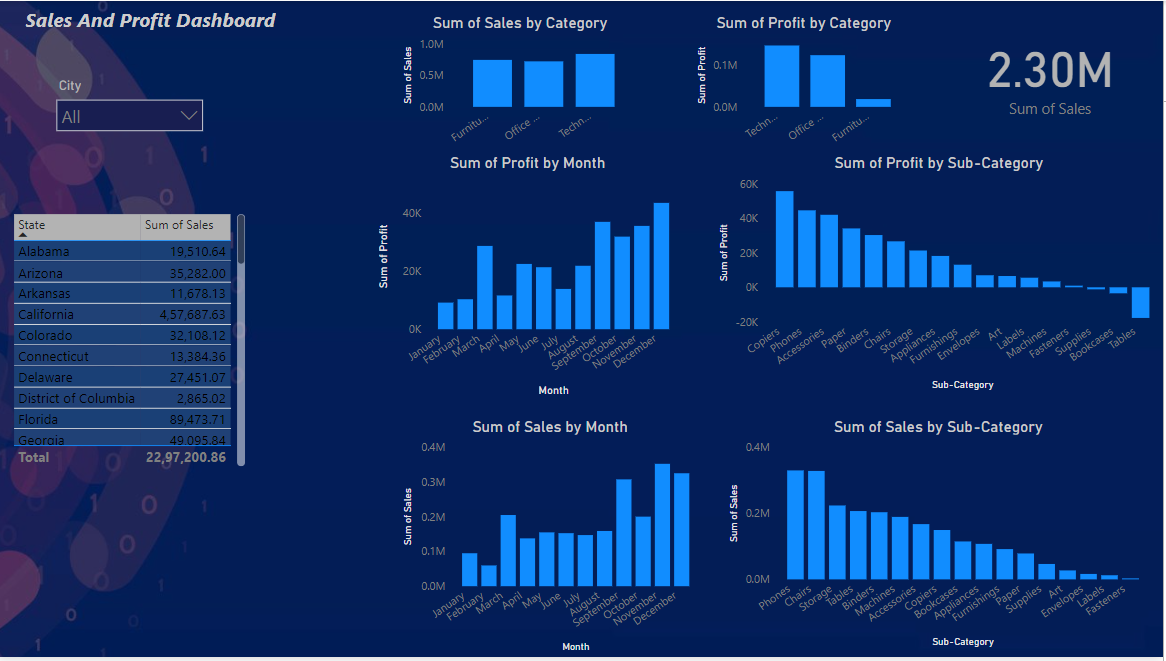

What the dashboard file says about the page in this screenshot:
{"tool":"powerbi","page":{"name":"Page 1","canvas":[1280,720],"ordinal":0},"visuals":[{"type":"columnChart","fields":{"Y":["Sum(Sample Superstore.Sales)"],"Category":["Sample Superstore.Date of Order.Variation.Date Hierarchy.Month"]},"box":[440.5,456.9,333.4,263.5],"z":0},{"type":"columnChart","fields":{"Y":["Sum(Sample Superstore.Sales)"],"Category":["Sample Superstore.Category"]},"box":[440.5,13.7,267.6,153.7],"z":1000},{"type":"columnChart","fields":{"Y":["Sum(Sample Superstore.Sales)"],"Category":["Sample Superstore.Sub-Category"]},"box":[798.6,456.9,469.3,258],"z":2000},{"type":"columnChart","fields":{"Category":["Sample Superstore.Date of Order.Variation.Date Hierarchy.Month"],"Y":["Sum(Sample Superstore.Profit)"]},"box":[413,167.4,338.9,271.7],"z":3000},{"type":"columnChart","fields":{"Category":["Sample Superstore.Category"],"Y":["Sum(Sample Superstore.Profit)"]},"box":[763,13.7,245.6,153.7],"z":4000},{"type":"columnChart","fields":{"Category":["Sample Superstore.Sub-Category"],"Y":["Sum(Sample Superstore.Profit)"]},"box":[787.7,167.4,492.6,264.8],"z":5000},{"type":"slicer","fields":{"Values":["Sample Superstore.City"]},"box":[54.9,79.6,181.1,70],"z":6000},{"type":"textbox","box":[26.1,0,293.7,43.9],"z":7000},{"type":"tableEx","fields":{"Values":["Sample Superstore.State","Sum(Sample Superstore.Sales)"]},"box":[12.3,229.2,264.8,286.8],"z":7002},{"type":"card","fields":{"Values":["Sum(Sample Superstore.Sales)"]},"box":[1073.1,22,166,115.3],"z":7003}]}

Visuals, with their boxes in screenshot pixels (x1, y1, x2, y2), scaled from the page's 1280x720 canvas onto the 1166x661 screenshot:
columnChart - Sum(Sample Superstore.Sales) x Sample Superstore.Date of Order.Variation.Date Hierarchy.Month: (401,419,705,660)
columnChart - Sum(Sample Superstore.Sales) x Sample Superstore.Category: (401,13,645,154)
columnChart - Sum(Sample Superstore.Sales) x Sample Superstore.Sub-Category: (727,419,1155,656)
columnChart - Sample Superstore.Date of Order.Variation.Date Hierarchy.Month x Sum(Sample Superstore.Profit): (376,154,685,403)
columnChart - Sample Superstore.Category x Sum(Sample Superstore.Profit): (695,13,919,154)
columnChart - Sample Superstore.Sub-Category x Sum(Sample Superstore.Profit): (718,154,1165,397)
slicer - Sample Superstore.City: (50,73,215,137)
textbox: (24,0,291,40)
tableEx - Sample Superstore.State x Sum(Sample Superstore.Sales): (11,210,252,474)
card - Sum(Sample Superstore.Sales): (978,20,1129,126)
